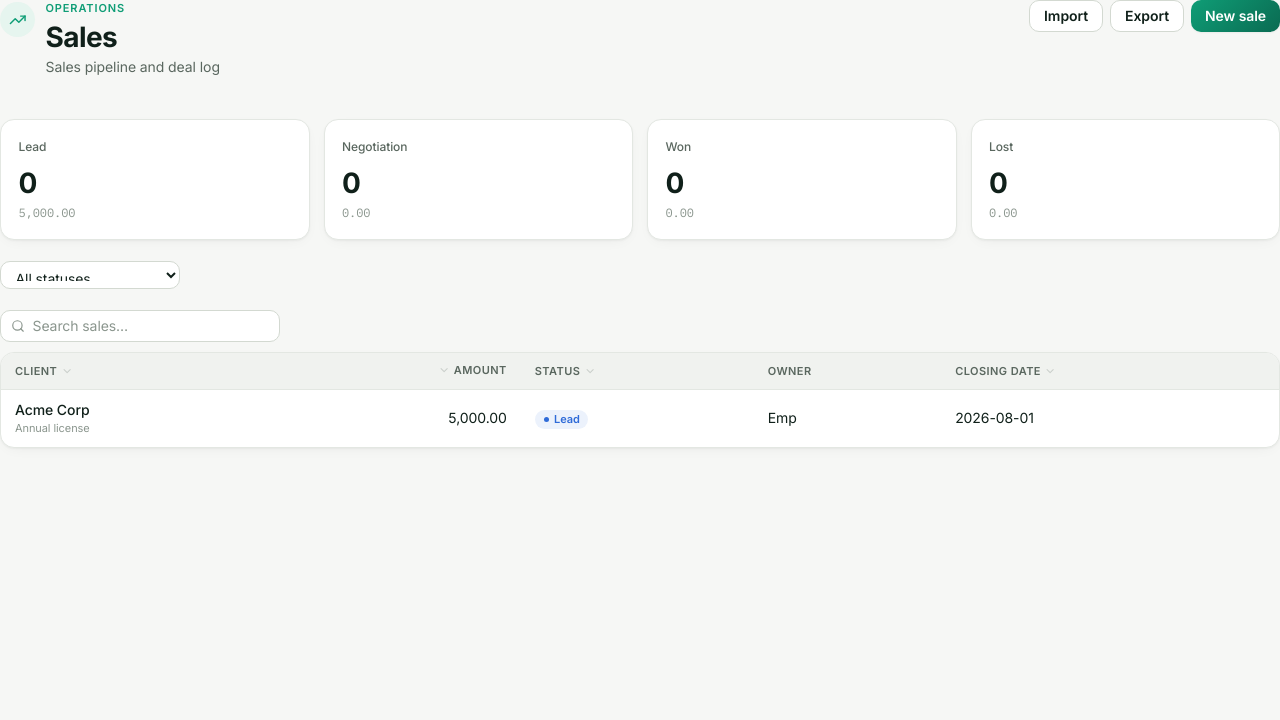
Test: SalesPage — employee › opens the create form with a custom field but no owner picker for an employee
Check: the text "Acme Corp" is shown, box x1=15 y1=401 x2=90 y2=418
Click the button "New sale" at (1236, 16), box x1=1191 y1=0 x2=1279 y2=32
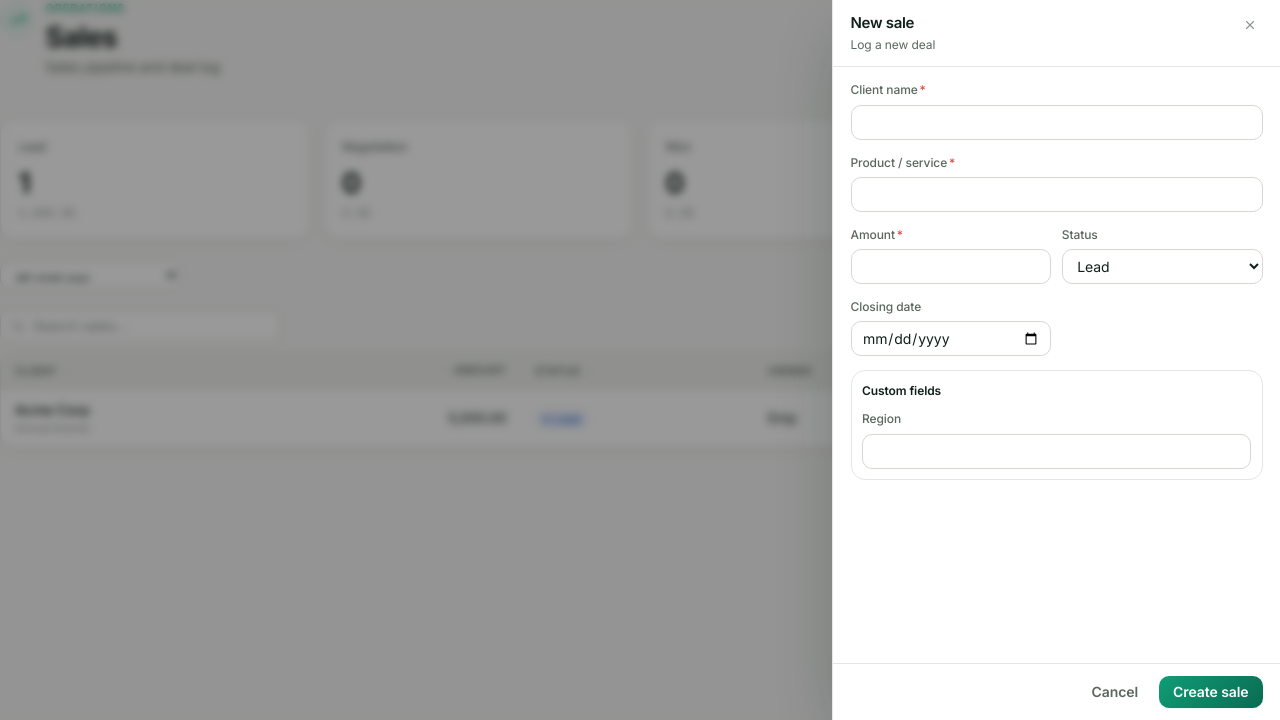
Check: the text "Region" is shown, box x1=862 y1=411 x2=901 y2=426
Check: the button "Create sale" is shown, box x1=1159 y1=676 x2=1262 y2=708
